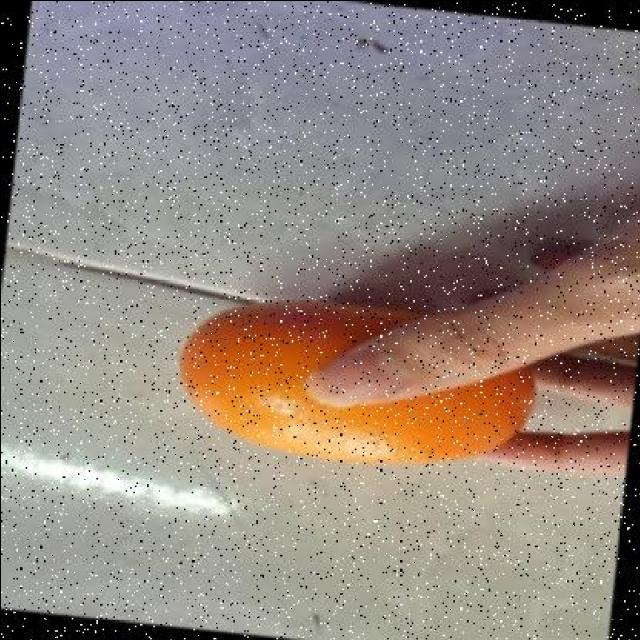Orange: (178, 298, 536, 468)
